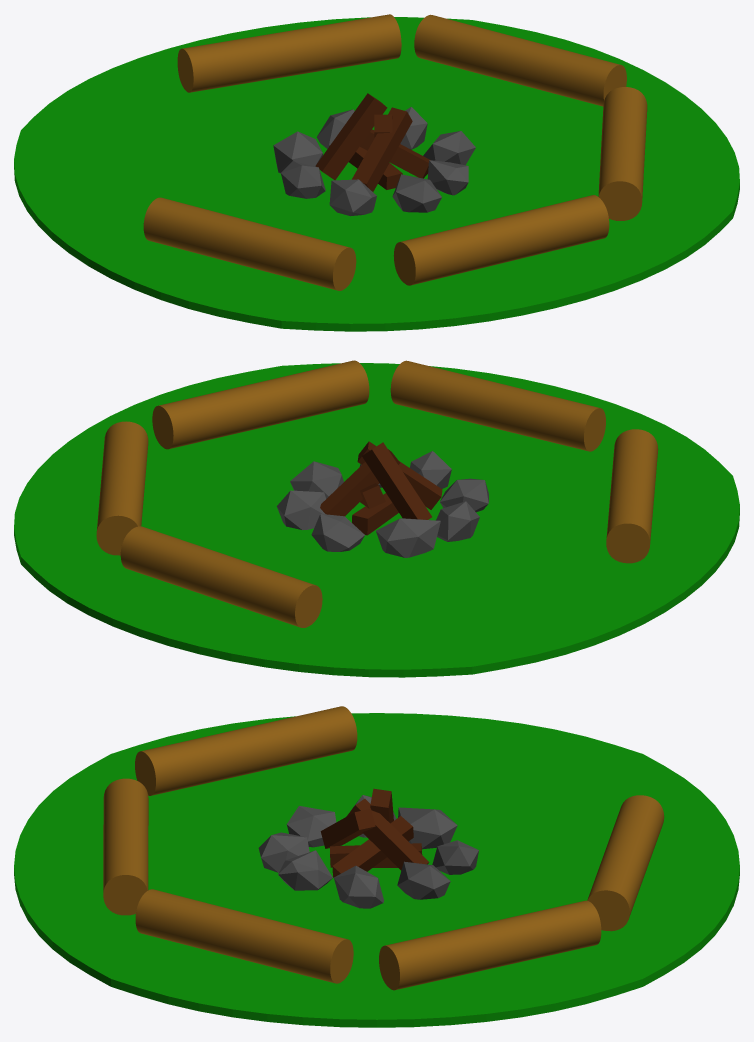
File: campfire2.gltf
The picture shows the model from 3 angles, top to bottom: view 1: azimuth 30°, elevation 25°; view 2: azimuth 150°, elevation 25°; view 3: azimuth 270°, elevation 25°; orthographic projection. The views are drawn at different scales.
Visible parts, largest first — view 1: Plane, Cube.005, Cube.008, Cube.006, Icosphere, Cube.007, Cube.004, Cube, Cube.002, Cube.001; view 2: Plane, Cube.005, Cube.007, Cube.006, Icosphere, Cube.008, Cube.004, Cube.003, Cube, Cube.001; view 3: Plane, Cube.005, Icosphere, Cube.007, Cube.008, Cube.006, Cube.003, Cube.002, Cube, Cube.004, Cube.001.
Boxes of the visible parts, box(x1,y1,x2,y2) form: Plane: box(14, 17, 739, 331); Cube.005: box(143, 14, 626, 290); Cube.008: box(177, 14, 401, 92); Cube.006: box(393, 195, 609, 285); Icosphere: box(273, 107, 475, 216); Cube.007: box(598, 87, 647, 220); Cube.004: box(315, 93, 387, 180); Cube: box(352, 107, 412, 191); Cube.002: box(360, 129, 430, 178); Cube.001: box(349, 146, 402, 189); Plane: box(14, 363, 739, 677); Cube.005: box(96, 421, 658, 563); Cube.007: box(152, 360, 369, 449); Cube.006: box(390, 360, 605, 451); Icosphere: box(276, 451, 488, 557); Cube.008: box(120, 526, 322, 627); Cube.004: box(362, 442, 431, 519); Cube.003: box(320, 449, 399, 516); Cube: box(357, 441, 442, 509); Cube.001: box(352, 493, 398, 535); Plane: box(14, 713, 739, 1027); Cube.005: box(135, 706, 601, 990); Icosphere: box(258, 795, 478, 908); Cube.007: box(135, 889, 353, 983); Cube.008: box(587, 795, 664, 931); Cube.006: box(103, 778, 148, 915); Cube.003: box(346, 798, 429, 870); Cube.002: box(332, 816, 413, 877); Cube: box(320, 809, 375, 848); Cube.004: box(370, 788, 393, 823); Cube.001: box(330, 843, 422, 867).
Bounding box in the file's own units: 8.25 × 1.13 × 8.25.
